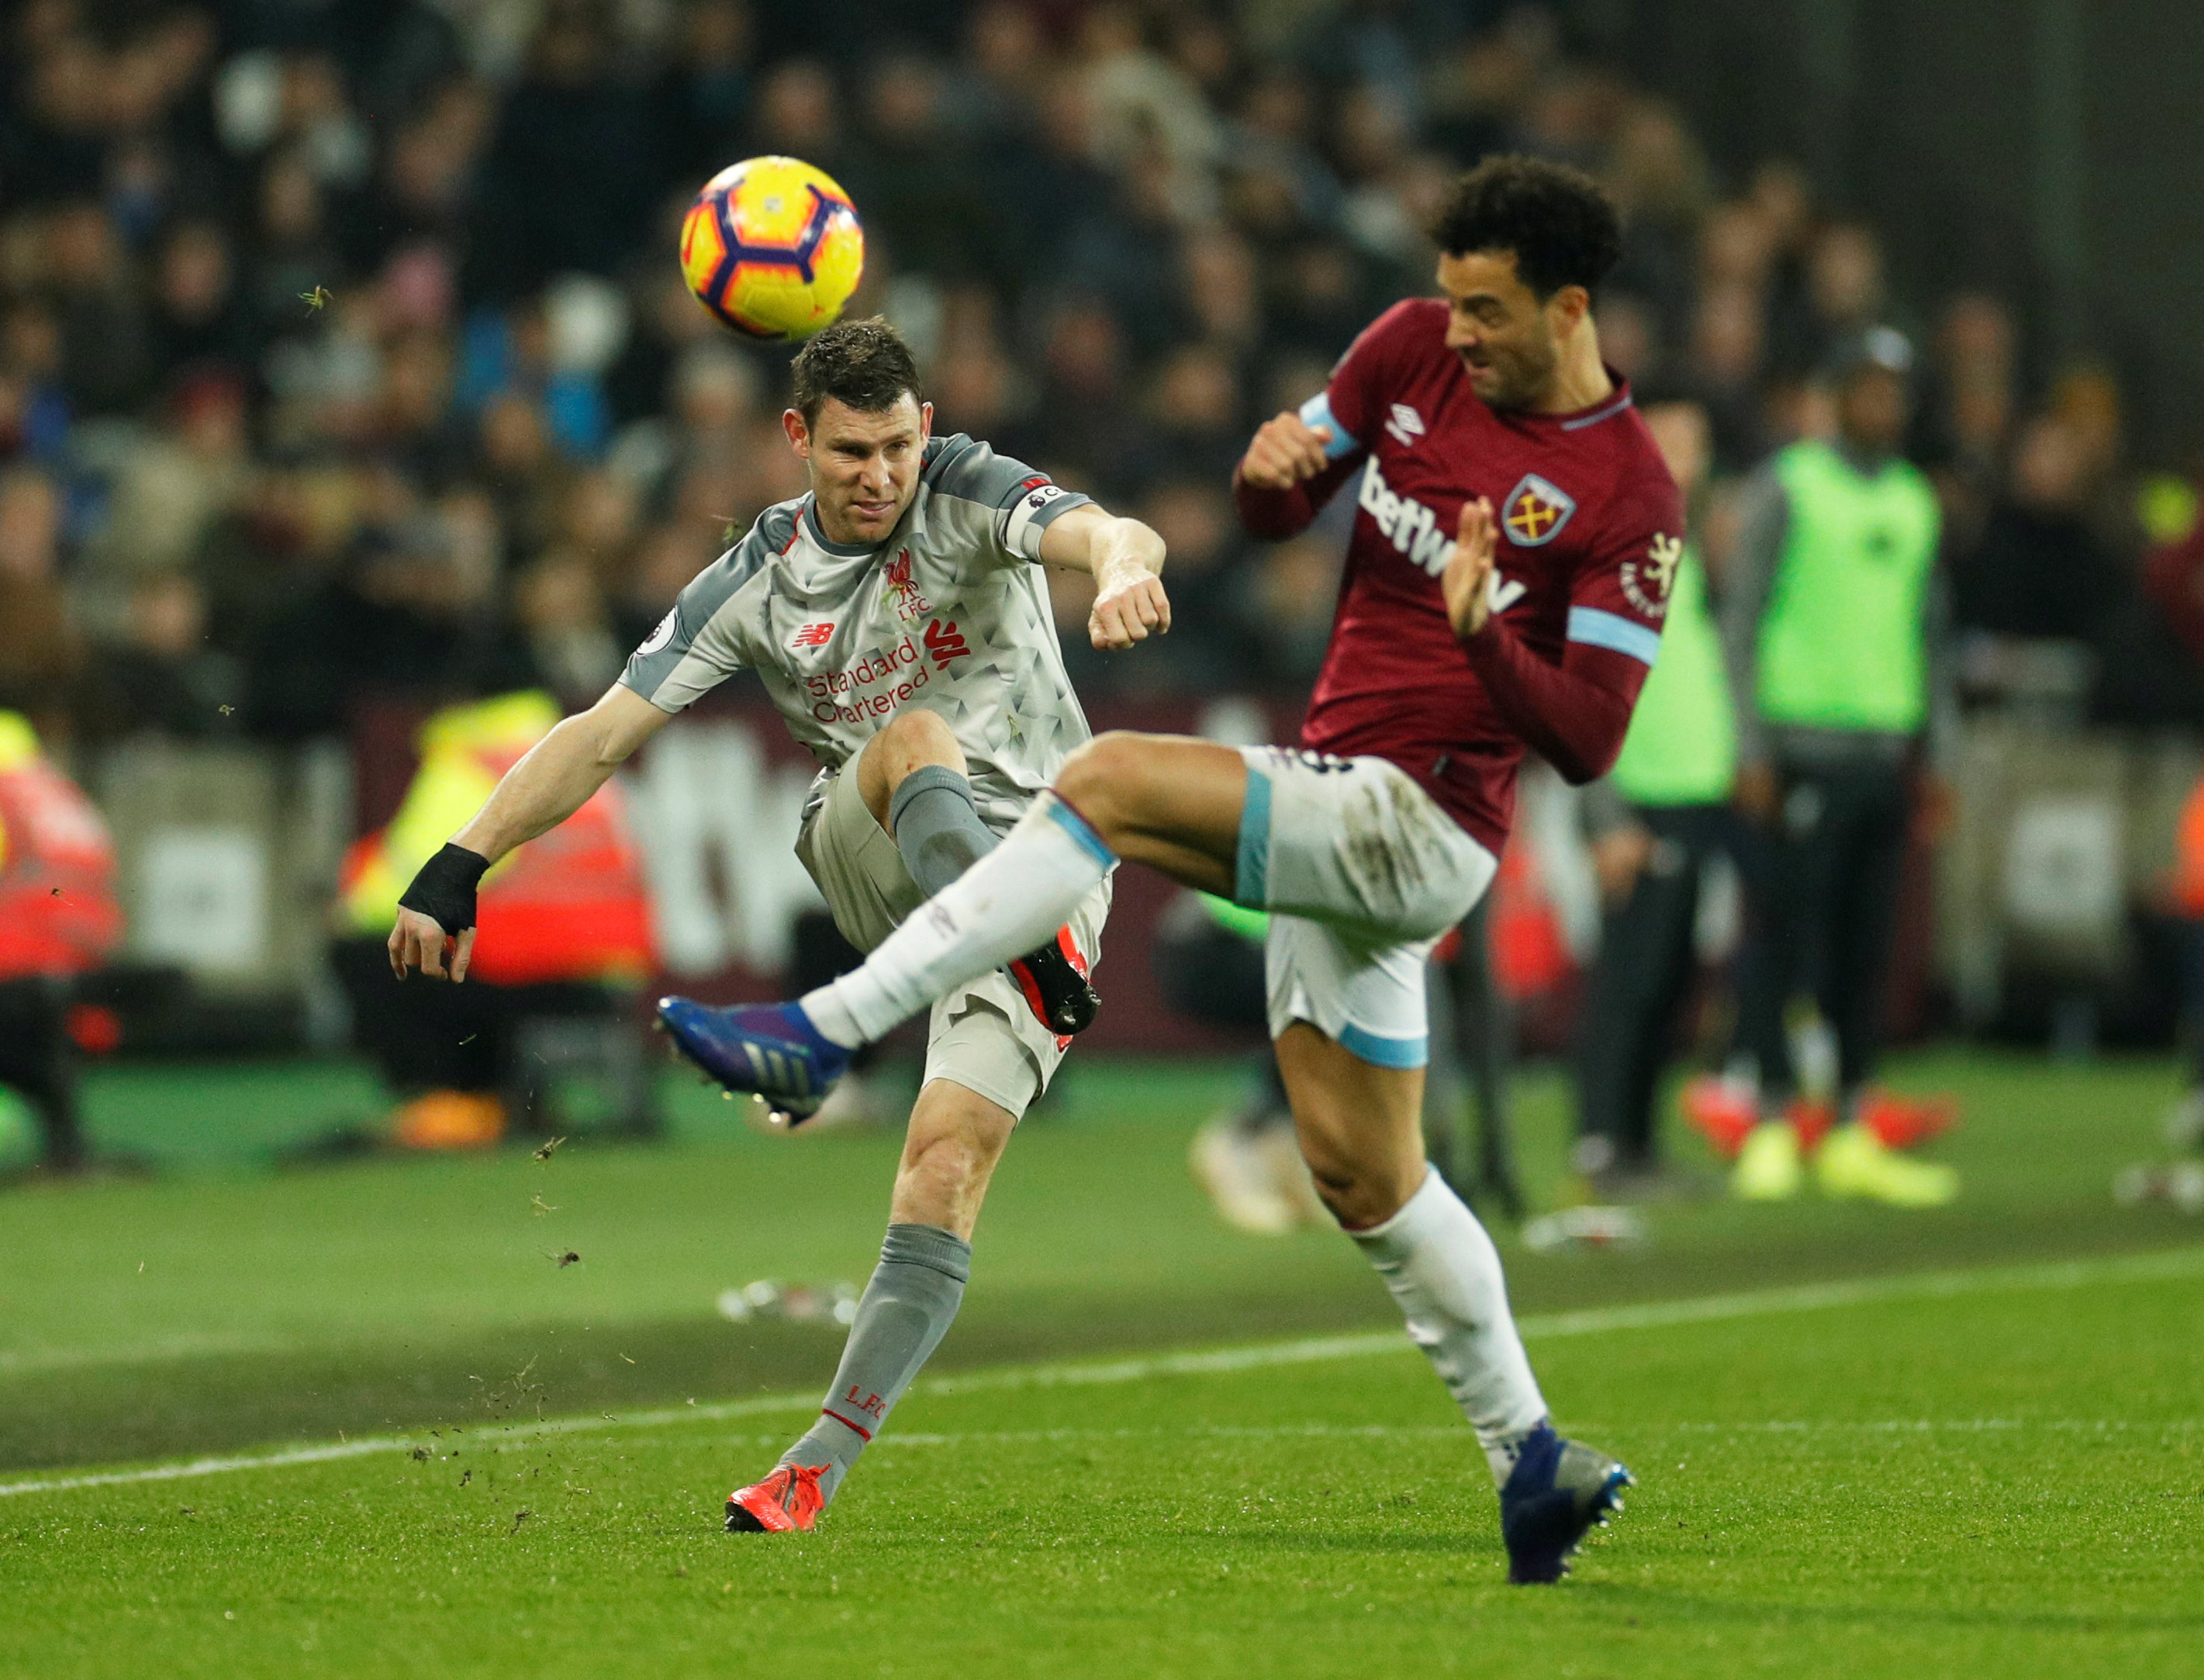ball: (674, 150, 872, 344)
